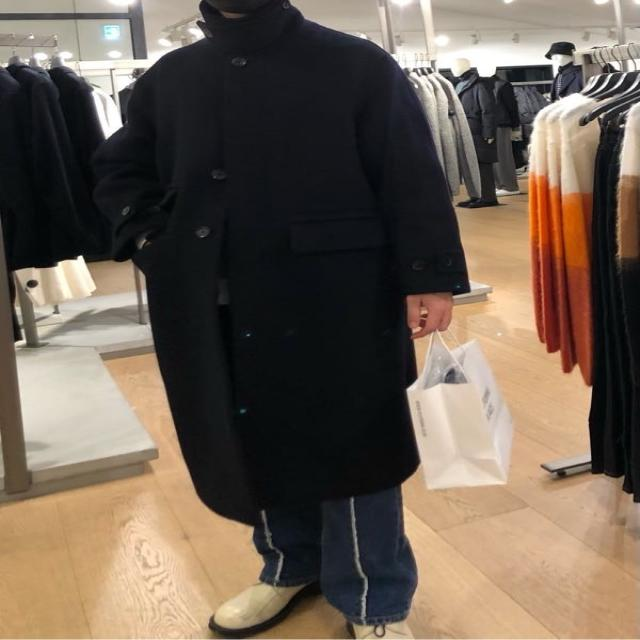coat: (89, 0, 467, 528)
denimpants: (252, 470, 420, 624)
